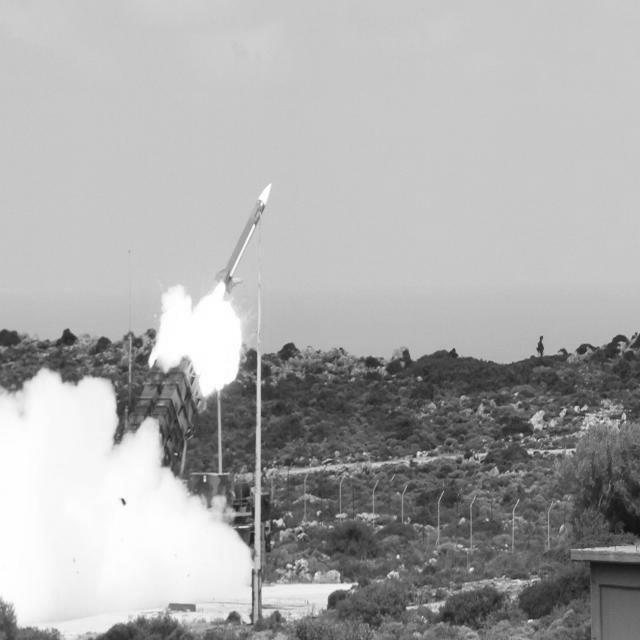Missile: (212, 175, 279, 309)
